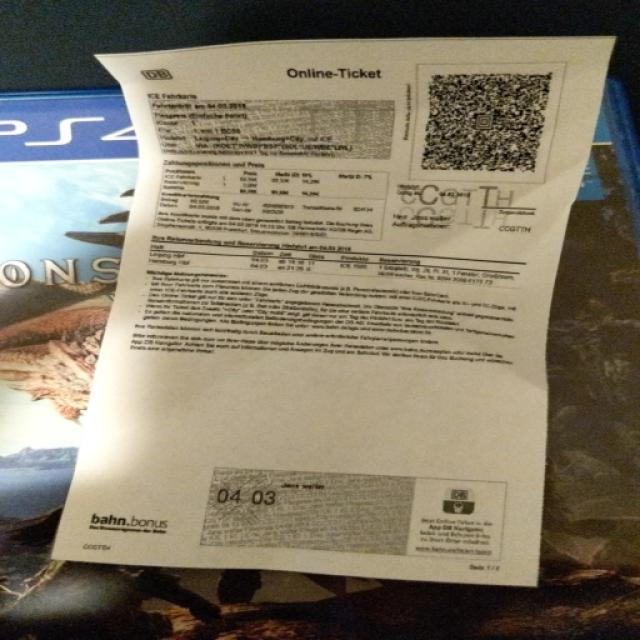document: (52, 39, 614, 585)
